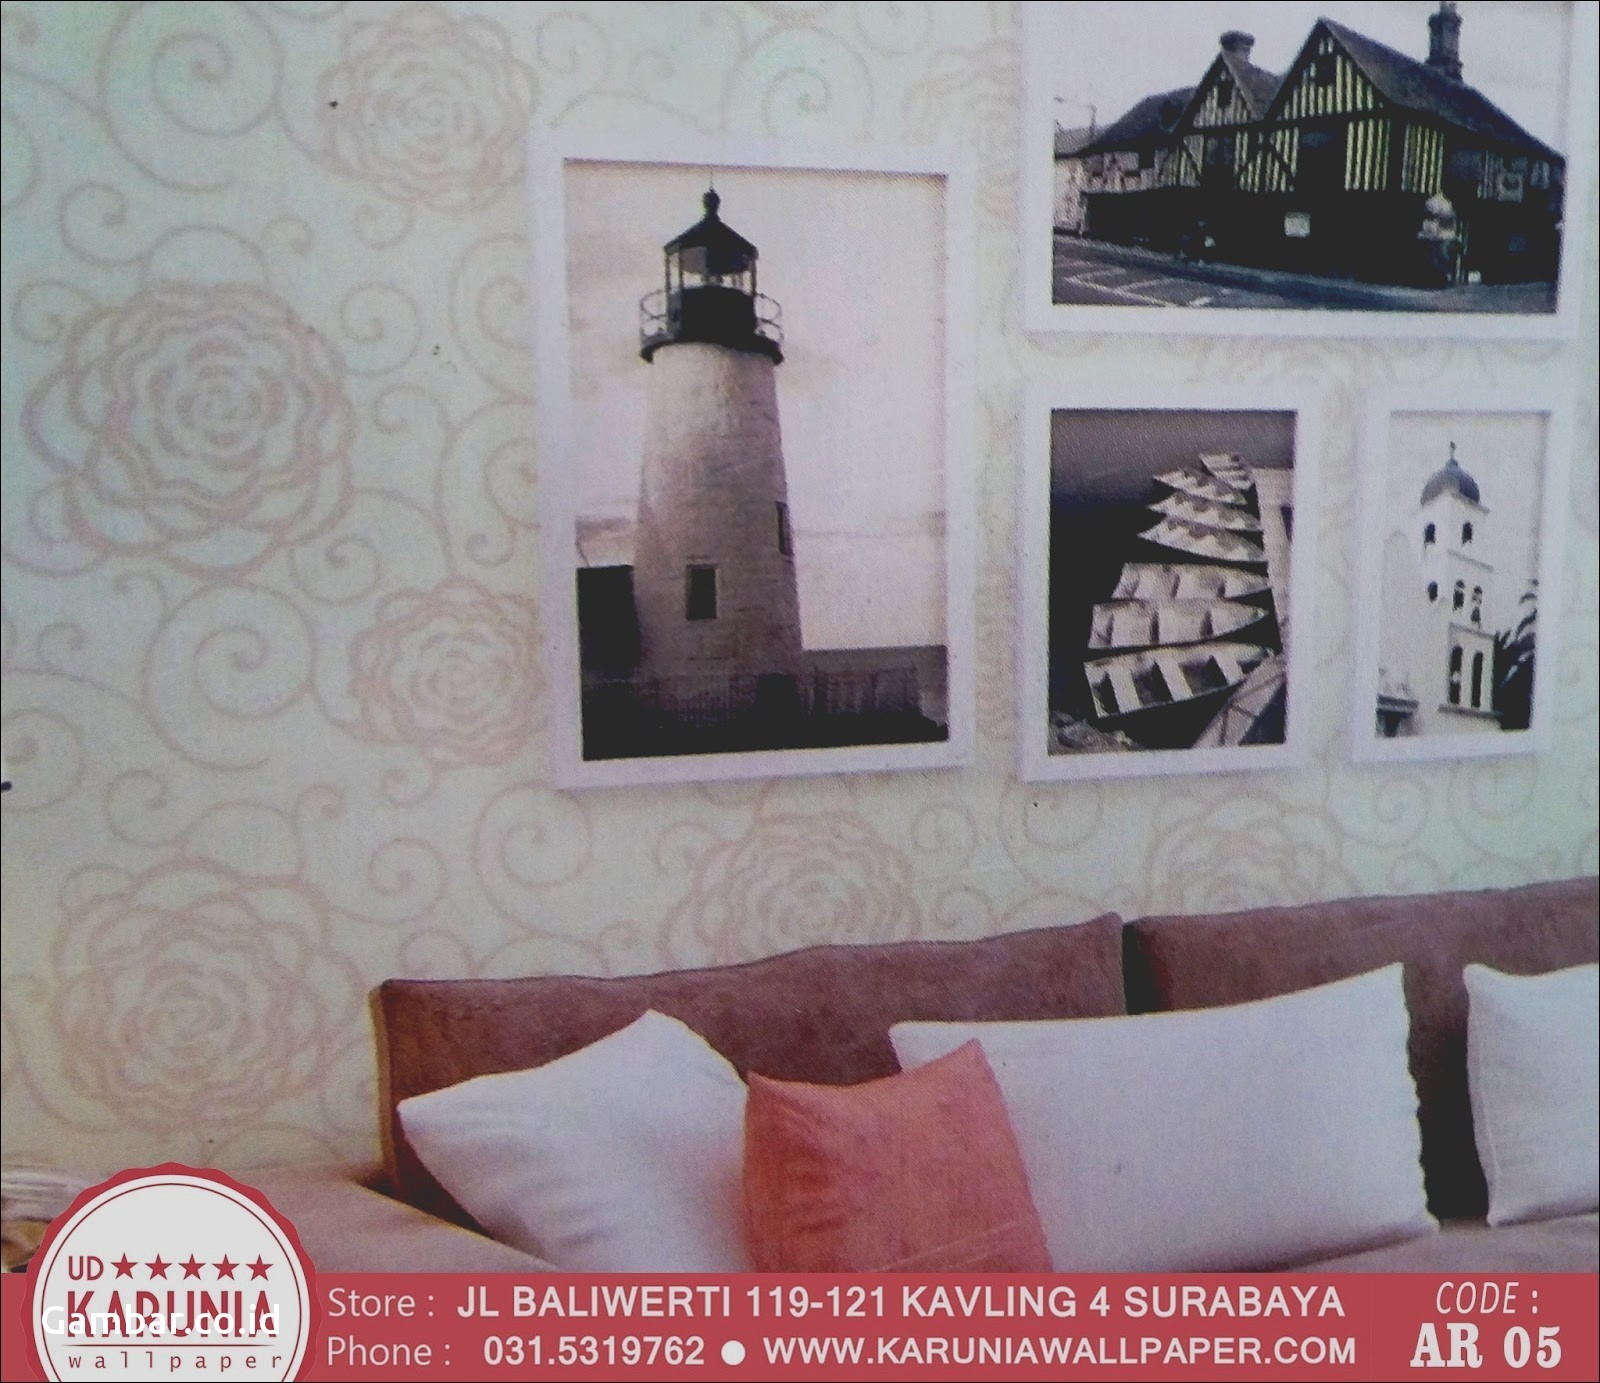bantal: (980, 966, 1424, 1257), (399, 1005, 765, 1270), (741, 1038, 1057, 1271), (1463, 961, 1600, 1227)
foto: (529, 126, 980, 781), (1015, 1, 1586, 349), (1015, 386, 1307, 790), (1348, 377, 1551, 762)
sova: (234, 874, 1600, 1271)
